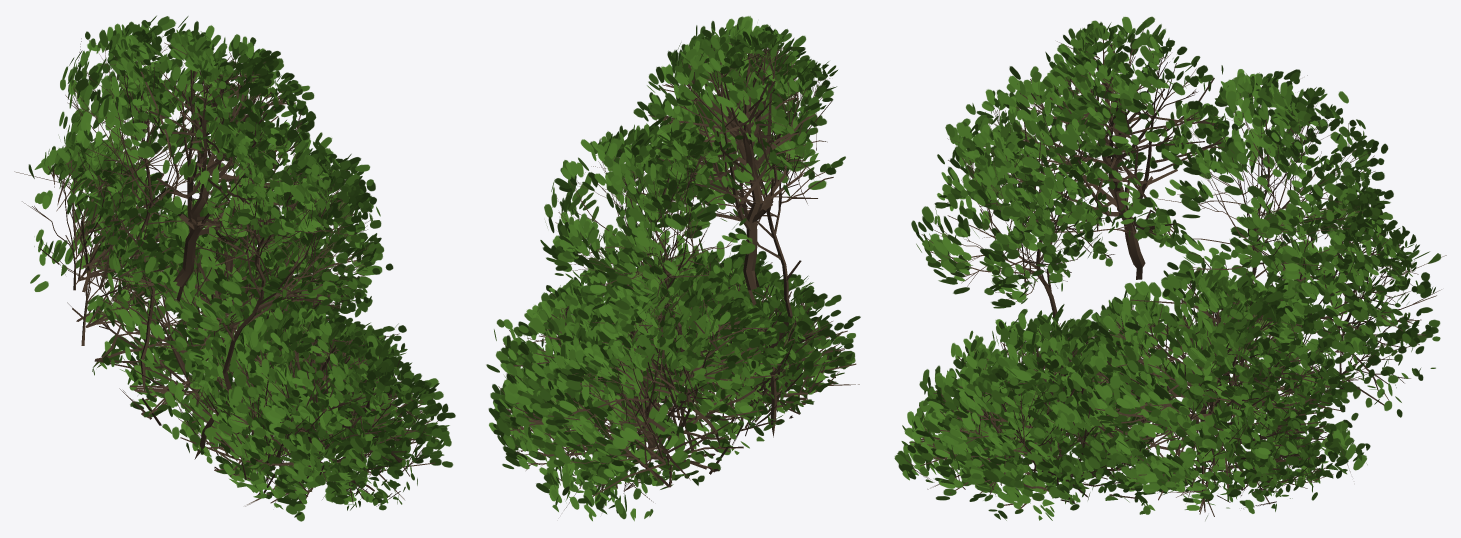
3 renders of one model, left to right at view 1: azimuth 30°, elevation 25°; view 2: azimuth 150°, elevation 25°; view 3: azimuth 270°, elevation 25°, orthographic.
Parts seen in each view (by area): view 1: oak 01.001_trunk_Mat.001_0.426; view 2: oak 01.001_trunk_Mat.001_0.426; view 3: oak 01.001_trunk_Mat.001_0.426.
Part boxes in pixels (x1,y1,x2,y2): oak 01.001_trunk_Mat.001_0.426: (14,15,455,521); oak 01.001_trunk_Mat.001_0.426: (486,16,860,521); oak 01.001_trunk_Mat.001_0.426: (894,16,1446,520).
Size of the model in its own units: 1.98 by 3.43 by 3.94.
2 materials, 1 textured.
